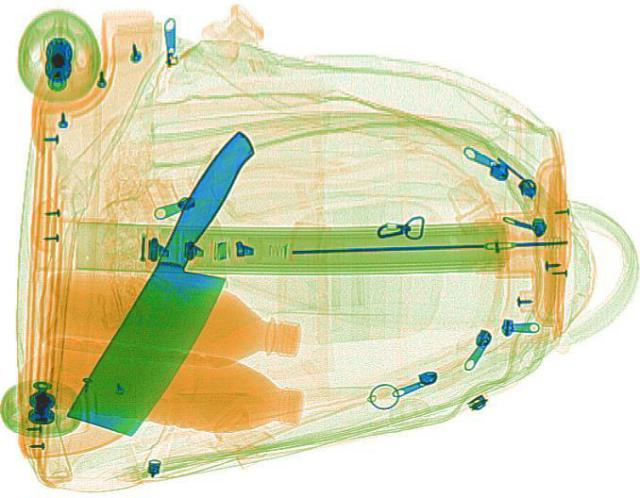Knife: (61, 126, 296, 438)
